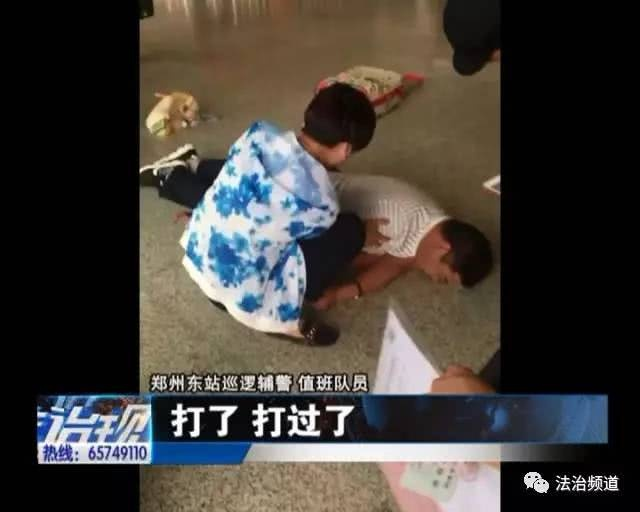falling: (295, 157, 494, 308)
